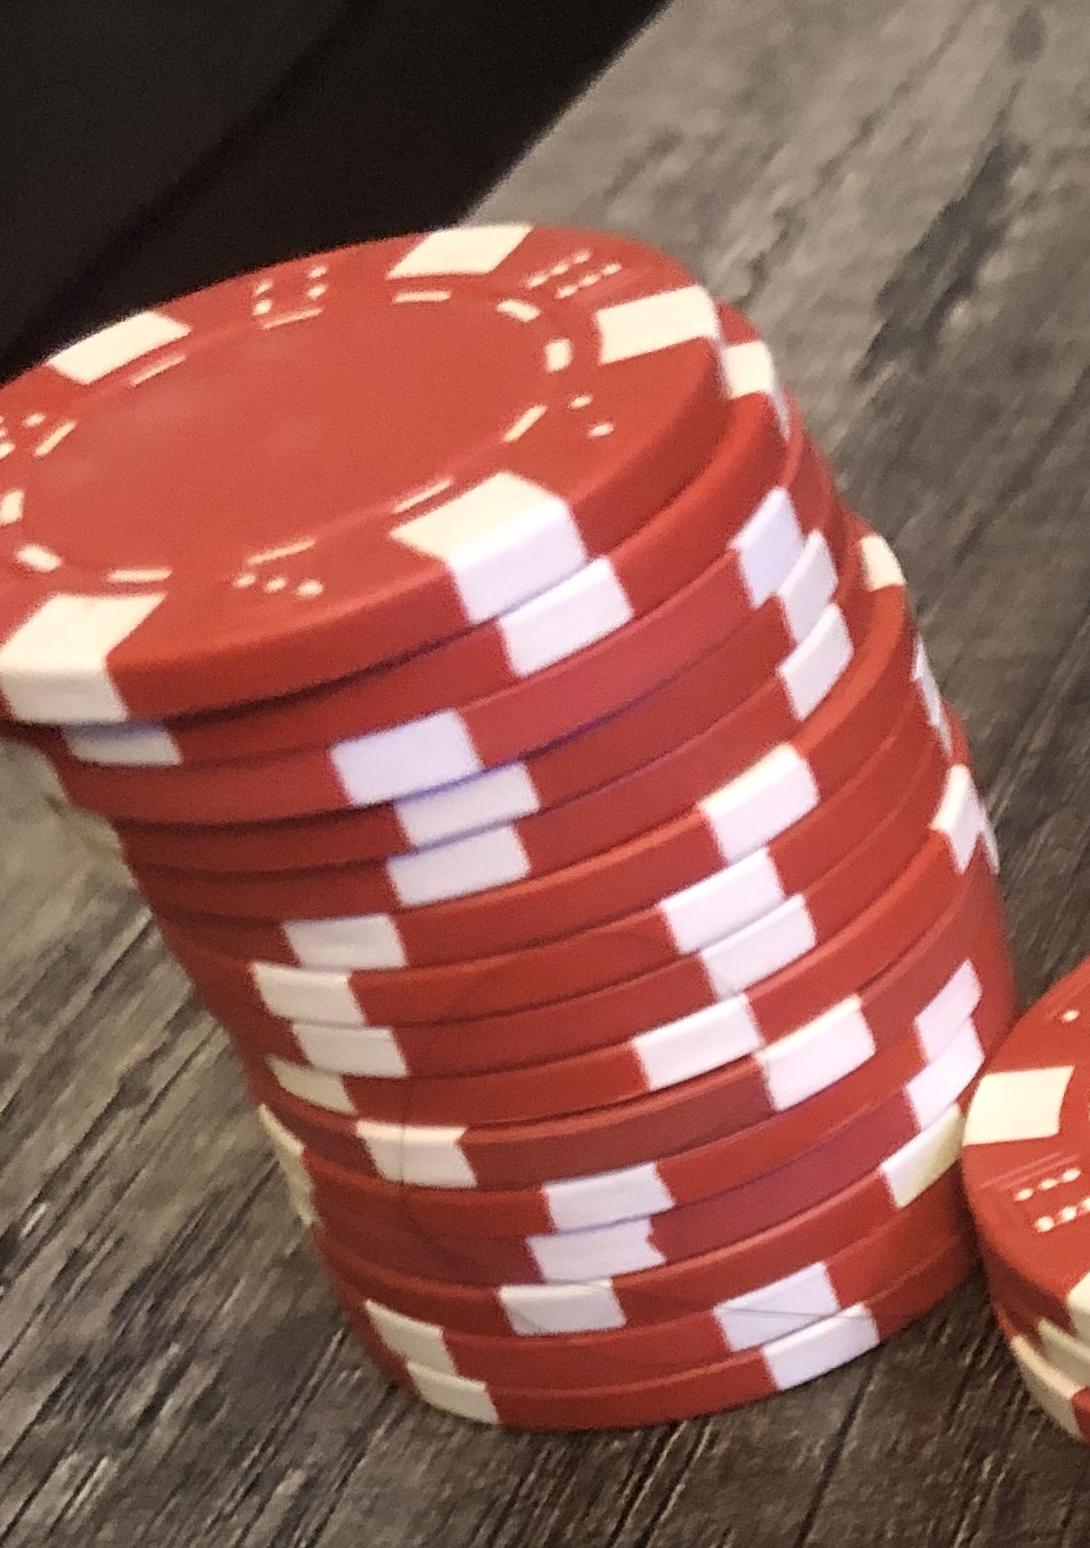Chip: (1, 1, 1090, 1548)
